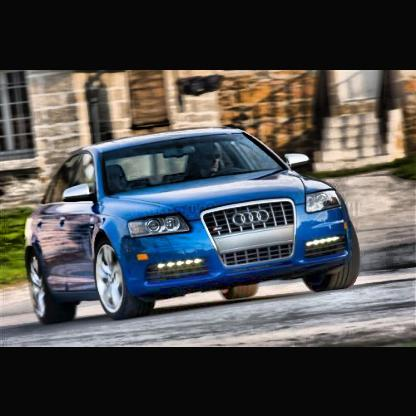Audi S6 Sedan 2011: (26, 127, 362, 327)
